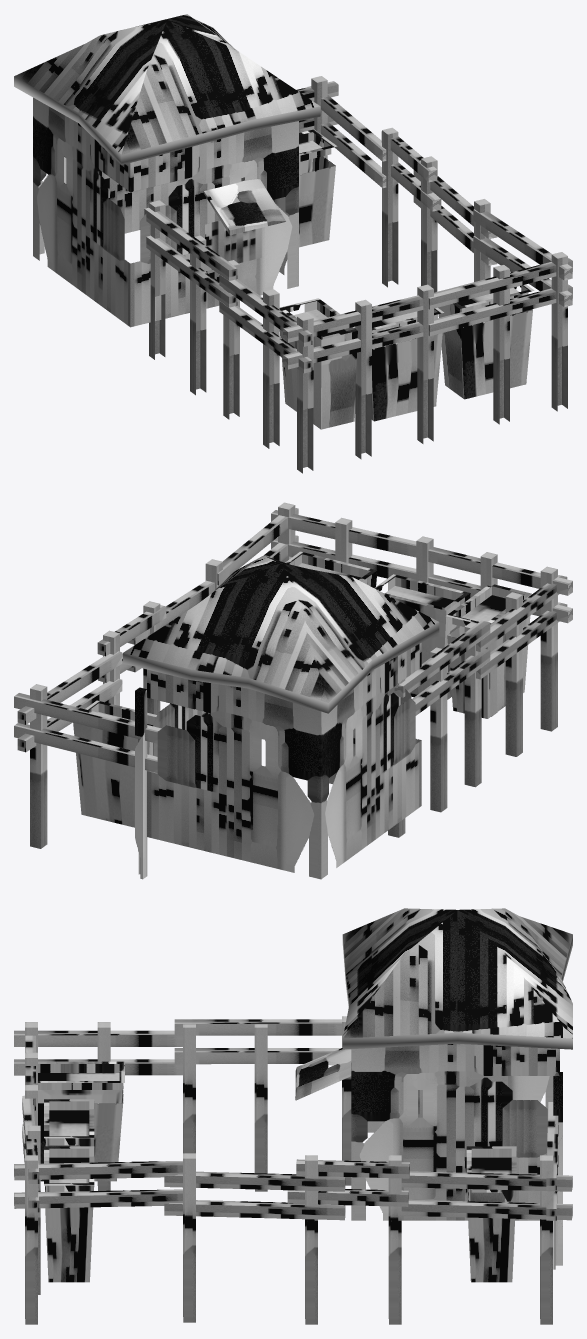
The model's file is corral_hopi.dae.
3 renders of one model, top to bottom at view 1: azimuth 30°, elevation 25°; view 2: azimuth 150°, elevation 25°; view 3: azimuth 270°, elevation 25°, orthographic. The views are drawn at different scales.
Visible parts, largest first — view 1: Corral; view 2: Corral; view 3: Corral.
Boxes of the visible parts, x1,y1,x2,y2 form: Corral: (14,14,572,473); Corral: (14,502,572,879); Corral: (14,908,572,1324).
Size of the model in its own units: 11.58 by 16.76 by 10.31.
